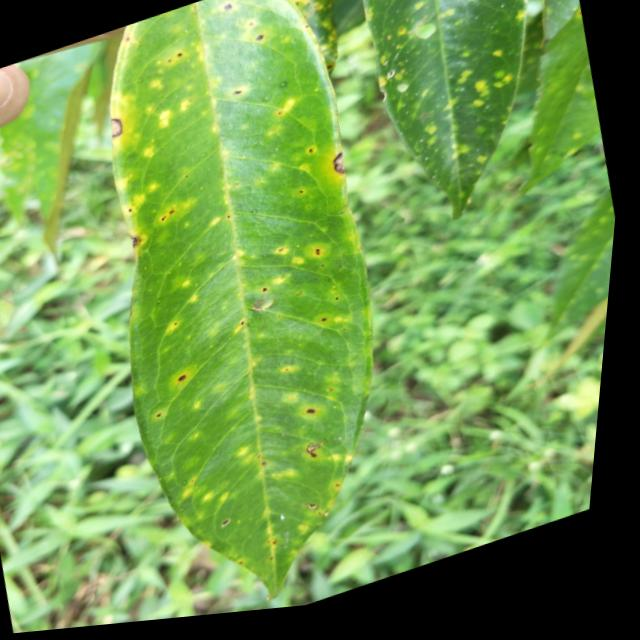Leaf Spot: (157, 330, 283, 431), (258, 223, 343, 301), (285, 388, 356, 476), (309, 142, 377, 209), (159, 355, 218, 402), (109, 228, 166, 265), (104, 106, 141, 145)
